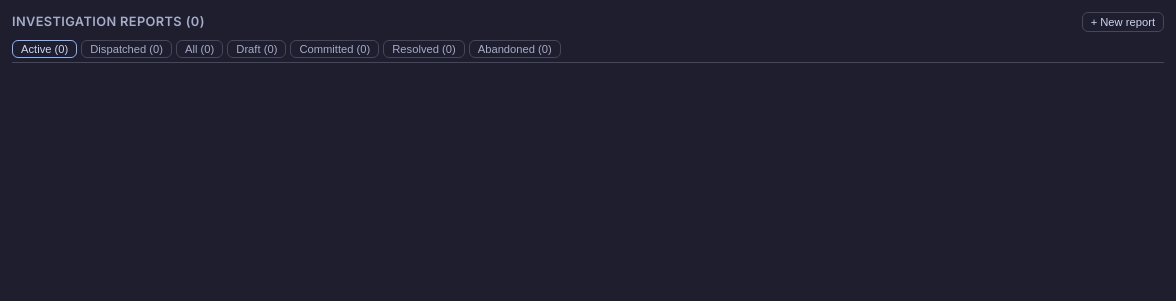
InvestigationReportSection — filing a report is a single action › saves a draft without committing when "Save draft" is clicked
Expected: the element with test id "investigation-report-section" is shown, 12,12 -> 1164,64
Click the button with test id "report-start-draft": (1123, 22) 1082,12 -> 1164,32
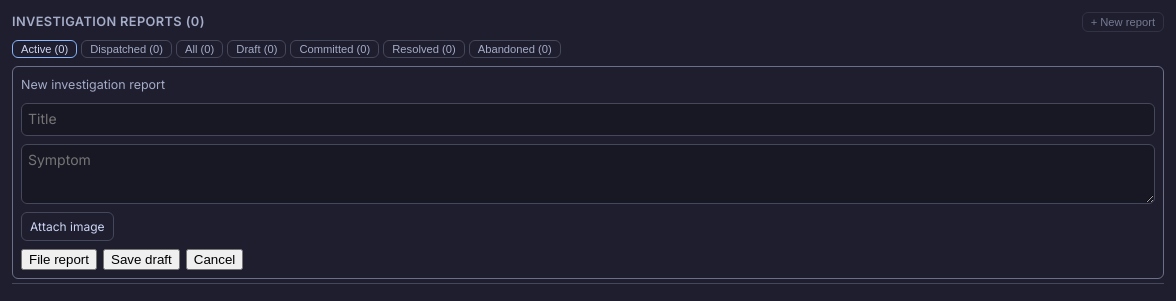
In the field with test id "report-draft-title": (588, 120) 21,103 -> 1155,136, type "New symptom"
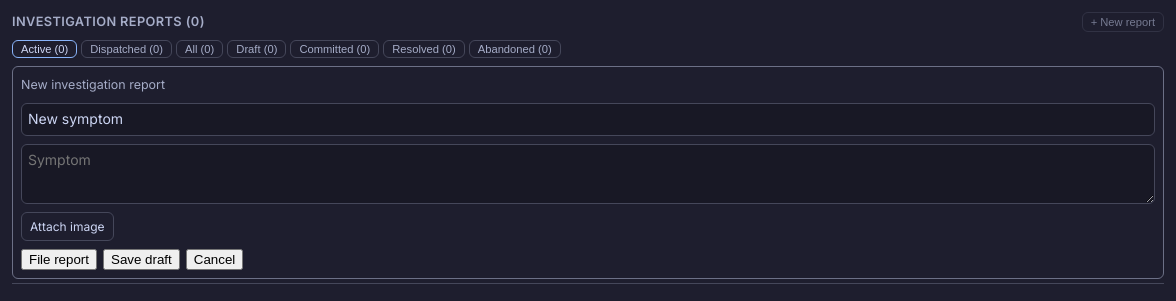
In the text box with test id "report-draft-symptom": (588, 174) 21,144 -> 1155,204, type "It broke in prod"
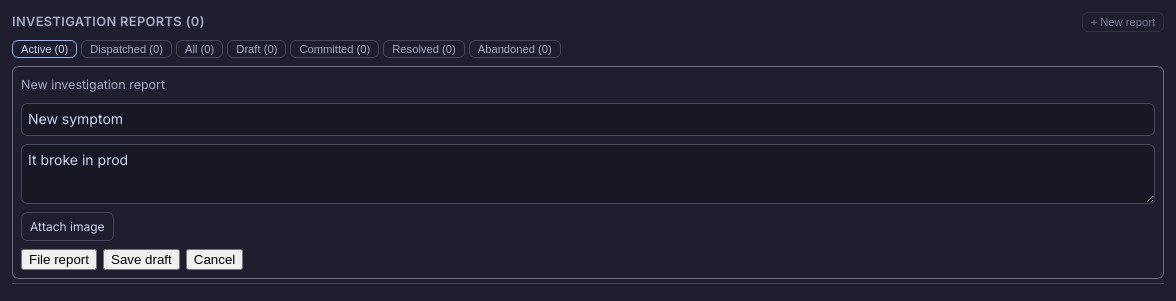
Click the button with test id "report-draft-save": (141, 260) 103,249 -> 180,270
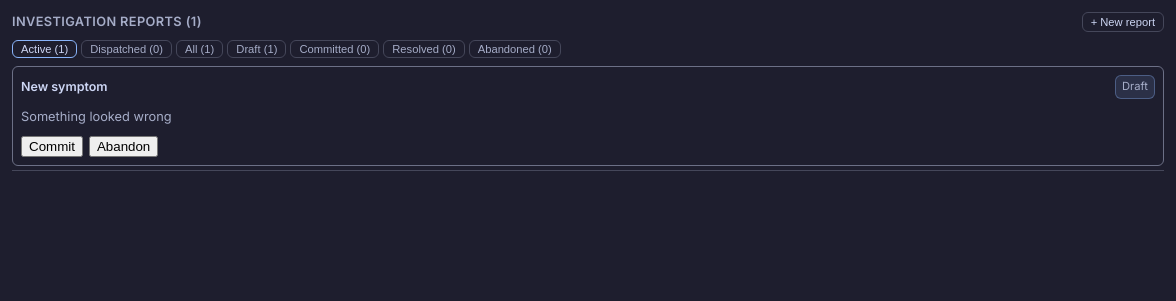
Result: the text with test id "report-state-r-draft-new" reads "Draft" at 1122,80 -> 1148,94
Result: the element with test id "report-card-r-draft-new" is shown at 12,66 -> 1164,166
Result: the element with test id "report-draft-form" is gone
